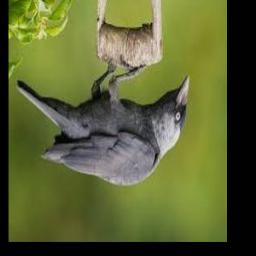Crow: (15, 56, 189, 187)
